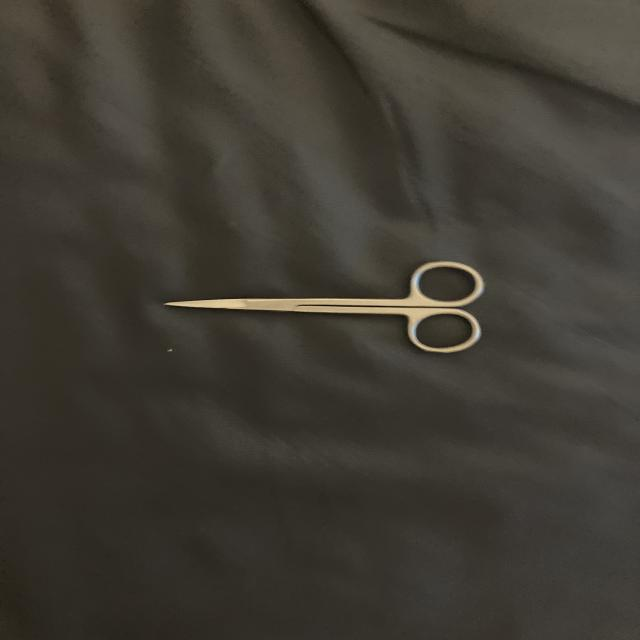scissor: (153, 250, 499, 376)
